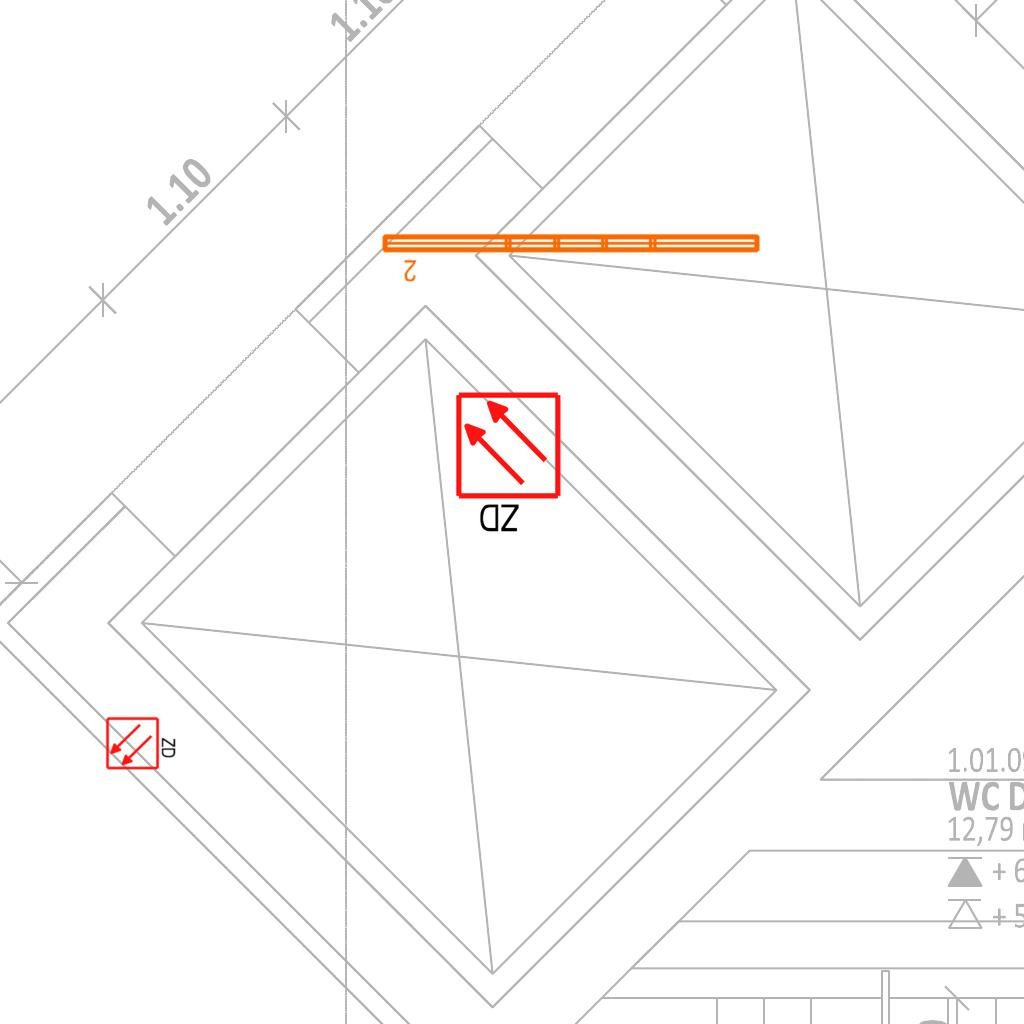Ambulanz_Pendelleuchte_LED: (378, 228, 765, 284)
ZD_Melder_in_Zwischendecke_mit_Revisionsoeffnung_mind_40_x_40_cm: (453, 390, 567, 539), (105, 714, 179, 771)
